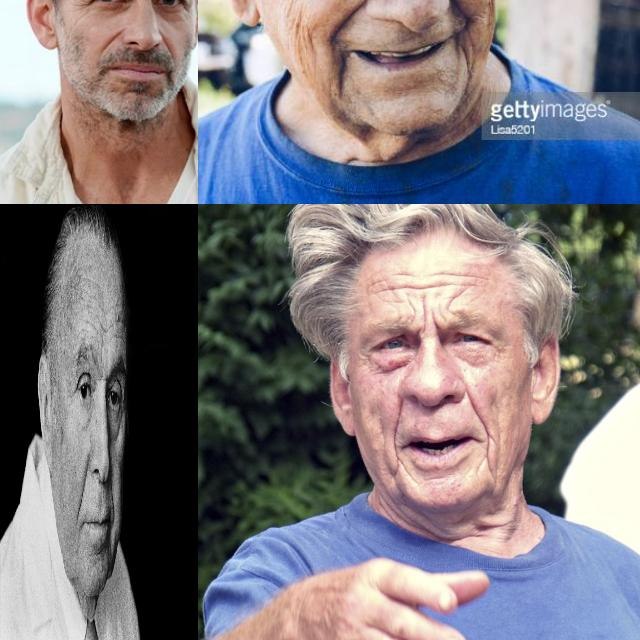crows_feet: (73, 0, 91, 14), (71, 384, 77, 401)
forehead: (84, 298, 107, 337), (374, 273, 408, 299), (458, 266, 488, 292), (414, 274, 446, 298), (111, 310, 124, 348), (81, 269, 99, 288)
frown_line: (414, 306, 442, 330), (98, 372, 106, 388), (100, 339, 104, 366)
gummy_smile: (387, 396, 411, 444), (332, 0, 367, 31), (461, 393, 489, 429), (78, 451, 89, 516), (456, 0, 474, 34), (100, 24, 122, 48), (158, 34, 174, 58), (109, 476, 116, 524)
masseter: (285, 5, 313, 51)
sad_smile: (478, 444, 502, 480), (330, 56, 350, 94), (388, 446, 410, 478), (458, 43, 476, 75)
